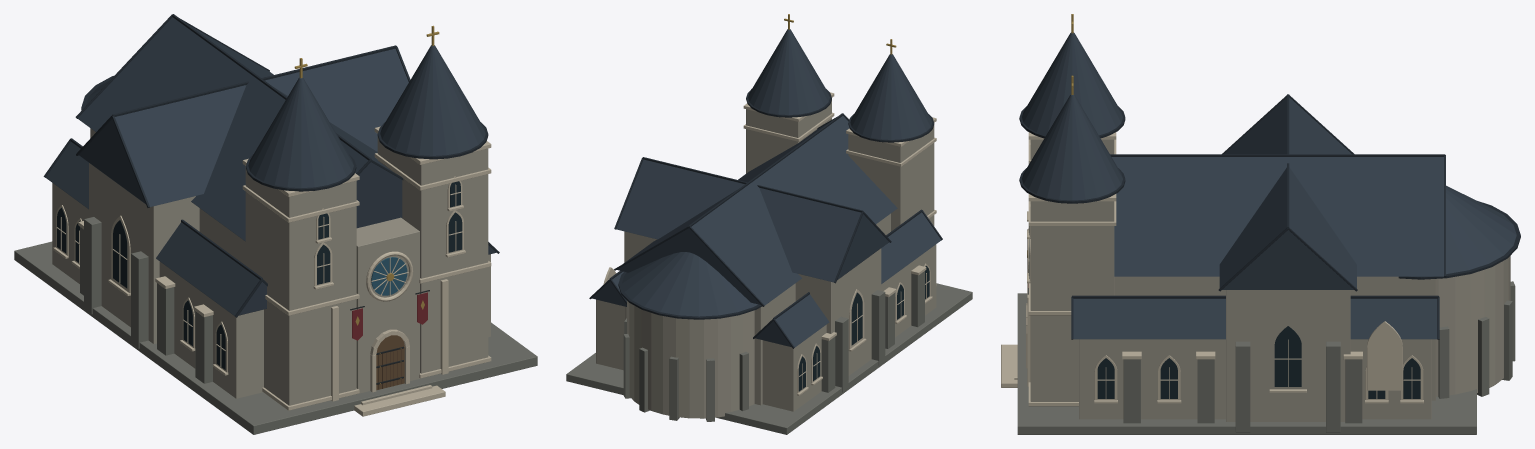
The model's file is Church.fbx.
The picture shows the model from 3 angles, left to right: view 1: azimuth 30°, elevation 25°; view 2: azimuth 150°, elevation 25°; view 3: azimuth 270°, elevation 25°; orthographic projection. The views are drawn at different scales.
Visible parts, largest first — view 1: Church bell tower.002, Church transept roof.001, Church nave slate roof.001, Church bell tower.003, Church foundation.001, Church transept.001, Church aisle.002, Church bell tower spire.003, Church bell tower spire.002, Church front gable.001, Church aisle roof.002, Transept corner buttress.004 (+20 smaller); view 2: Church nave slate roof.001, Church transept roof.001, Church apse.001, Church foundation.001, Church apse roof.001, Church bell tower.002, Church aisle.002, Church transept.001, Church bell tower spire.002, Church bell tower spire.003, Church aisle roof.002, Church bell tower.003 (+19 smaller); view 3: Church nave slate roof.001, Church transept roof.001, Church transept.001, Church bell tower.003, Church aisle.003, Church aisle roof.003, Church foundation.001, Church apse.001, Church bell tower spire.003, Church bell tower spire.002, Church apse roof.001, Church nave.001 (+19 smaller).
Part boxes in pixels (x1=…): Church bell tower.002: x1=245, y1=166, x2=356, y2=405; Church transept roof.001: x1=79, y1=48, x2=408, y2=206; Church nave slate roof.001: x1=77, y1=17, x2=402, y2=241; Church bell tower.003: x1=377, y1=136, x2=488, y2=373; Church foundation.001: x1=14, y1=241, x2=537, y2=434; Church transept.001: x1=89, y1=163, x2=199, y2=343; Church aisle.002: x1=52, y1=183, x2=263, y2=398; Church bell tower spire.003: x1=380, y1=45, x2=485, y2=155; Church bell tower spire.002: x1=248, y1=77, x2=353, y2=187; Church front gable.001: x1=356, y1=217, x2=419, y2=393; Church aisle roof.002: x1=45, y1=142, x2=266, y2=315; Transept corner buttress.004: x1=131, y1=251, x2=148, y2=348; Church nave slate roof.001: x1=617, y1=116, x2=897, y2=305; Church transept roof.001: x1=616, y1=159, x2=888, y2=282; Church apse.001: x1=627, y1=301, x2=754, y2=418; Church foundation.001: x1=566, y1=283, x2=972, y2=434; Church apse roof.001: x1=622, y1=252, x2=757, y2=316; Church bell tower.002: x1=848, y1=125, x2=934, y2=231; Church aisle.002: x1=762, y1=244, x2=936, y2=411; Church transept.001: x1=624, y1=231, x2=881, y2=375; Church bell tower spire.002: x1=850, y1=54, x2=932, y2=139; Church bell tower spire.003: x1=748, y1=29, x2=829, y2=114; Church aisle roof.002: x1=755, y1=212, x2=941, y2=347; Church bell tower.003: x1=746, y1=100, x2=831, y2=173; Church nave slate roof.001: x1=1112, y1=157, x2=1443, y2=276; Church transept roof.001: x1=1219, y1=97, x2=1356, y2=289; Church transept.001: x1=1226, y1=290, x2=1350, y2=421; Church bell tower.003: x1=1030, y1=201, x2=1114, y2=401; Church aisle.003: x1=1079, y1=339, x2=1431, y2=419; Church aisle roof.003: x1=1073, y1=298, x2=1437, y2=339; Church foundation.001: x1=1017, y1=293, x2=1476, y2=434; Church apse.001: x1=1436, y1=256, x2=1510, y2=396; Church bell tower spire.003: x1=1022, y1=94, x2=1122, y2=200; Church bell tower spire.002: x1=1022, y1=32, x2=1122, y2=135; Church apse roof.001: x1=1446, y1=185, x2=1516, y2=274; Church nave.001: x1=1114, y1=276, x2=1435, y2=400.
Bounding box in the file's own units: 19.34 × 21.75 × 31.68.
